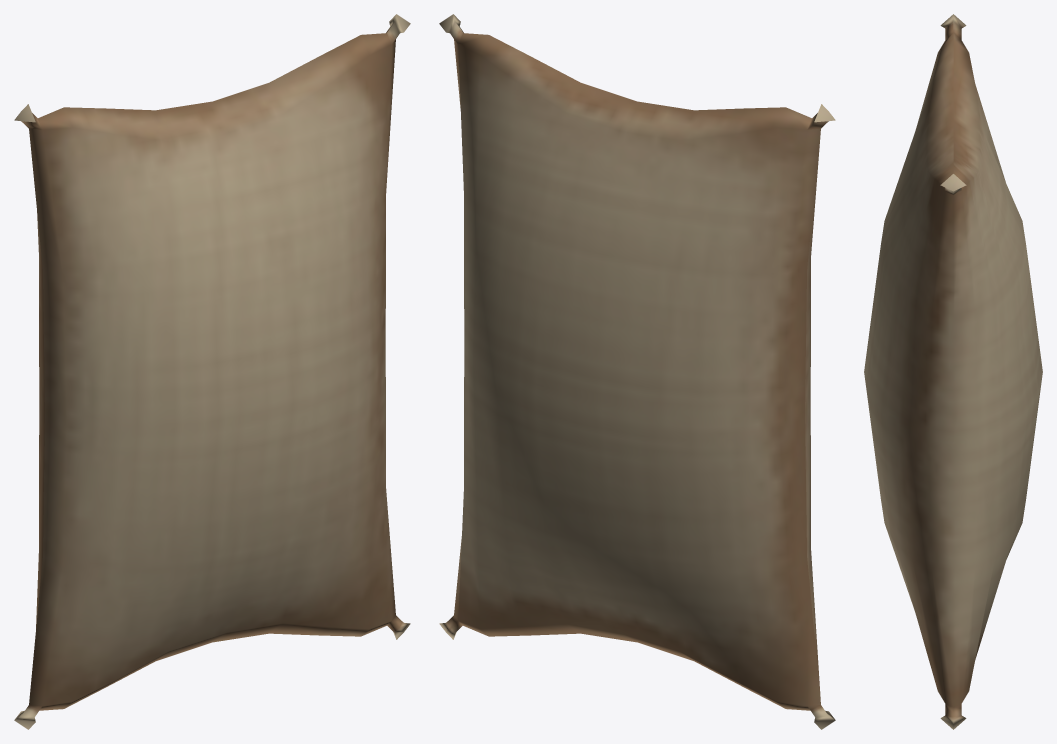
The model's file is Sack_Geo.fbx.
3 renders of one model, left to right at view 1: azimuth 30°, elevation 25°; view 2: azimuth 150°, elevation 25°; view 3: azimuth 270°, elevation 25°, orthographic. The views are drawn at different scales.
Visible parts, largest first — view 1: Sack_Geo; view 2: Sack_Geo; view 3: Sack_Geo.
Boxes of the visible parts, x1,y1,x2,y2 form: Sack_Geo: [14, 14, 410, 729]; Sack_Geo: [439, 14, 835, 729]; Sack_Geo: [864, 14, 1042, 729].
Size of the model in its own units: 43.25 by 65.21 by 18.99.
